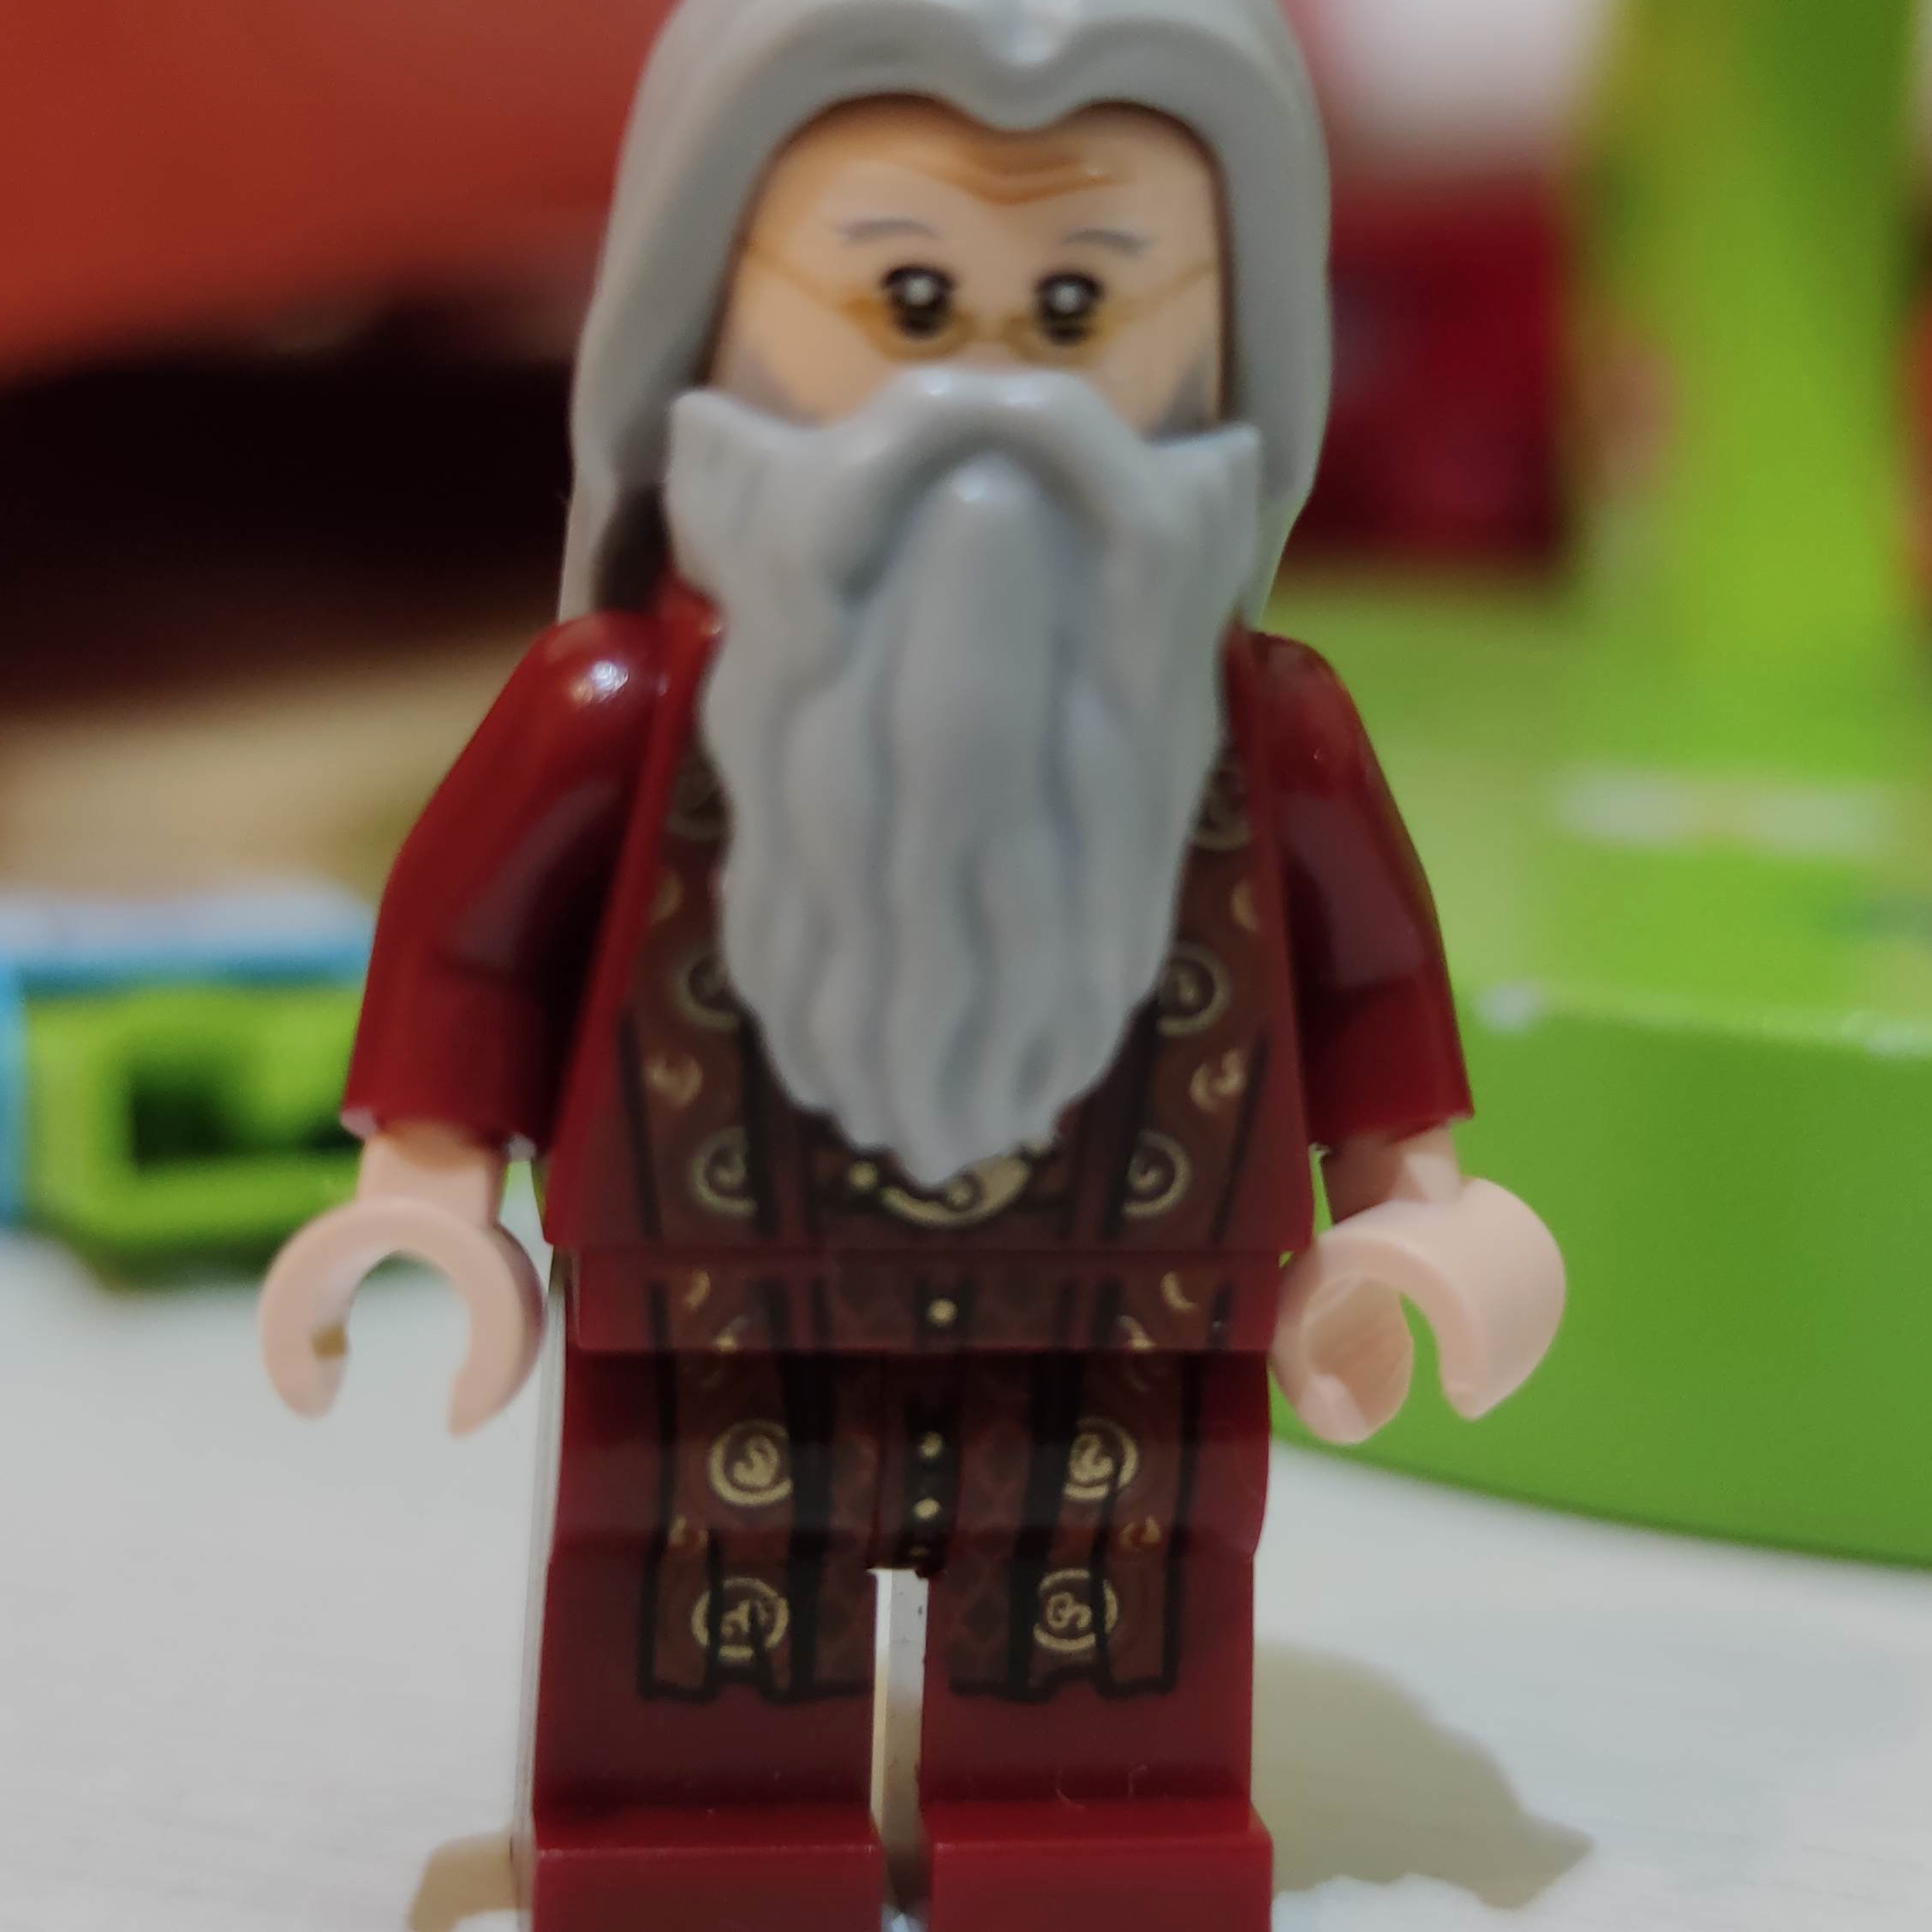lego: (258, 2, 1573, 1932)
